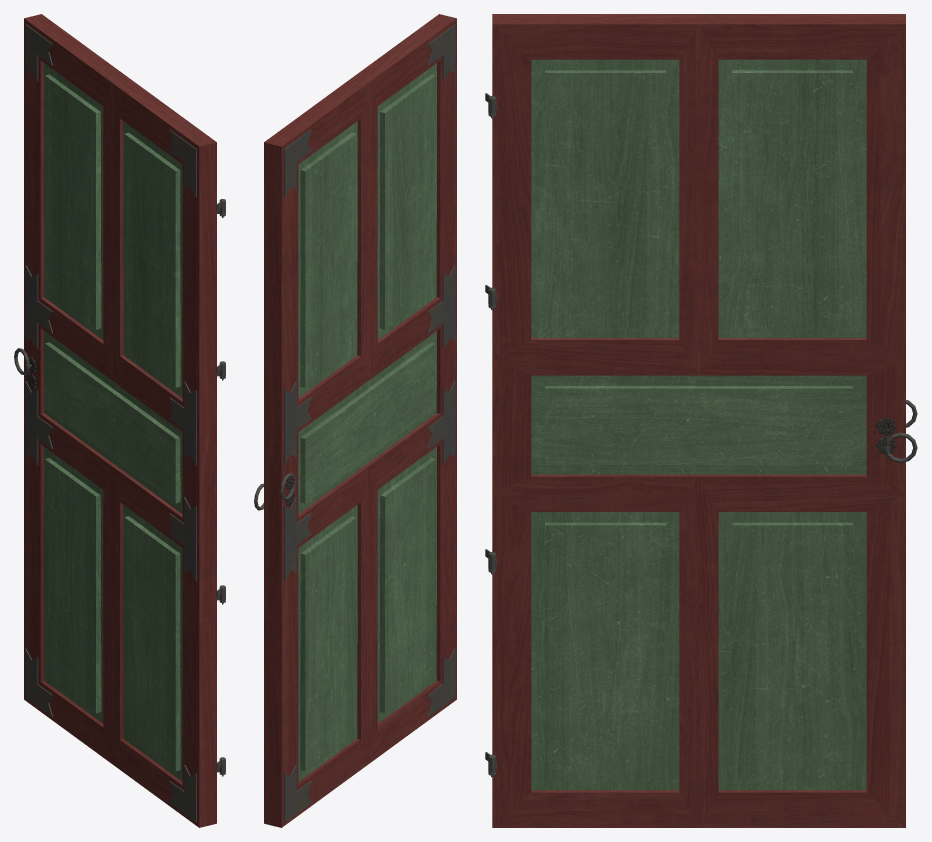
The model's file is SM_Door08A.fbx.
The picture shows the model from 3 angles, left to right: view 1: azimuth 30°, elevation 25°; view 2: azimuth 150°, elevation 25°; view 3: azimuth 270°, elevation 25°; orthographic projection. The views are drawn at different scales.
Parts seen in each view (by area): view 1: SM_Door08A; view 2: SM_Door08A; view 3: SM_Door08A.
Boxes of the visible parts, x1=… form: SM_Door08A: x1=14, y1=14, x2=225, y2=827; SM_Door08A: x1=254, y1=14, x2=456, y2=827; SM_Door08A: x1=485, y1=14, x2=917, y2=827.
Size of the model in its own units: 10.24 by 99.43 by 204.
